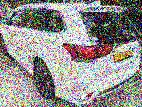car: (0, 2, 141, 105)
